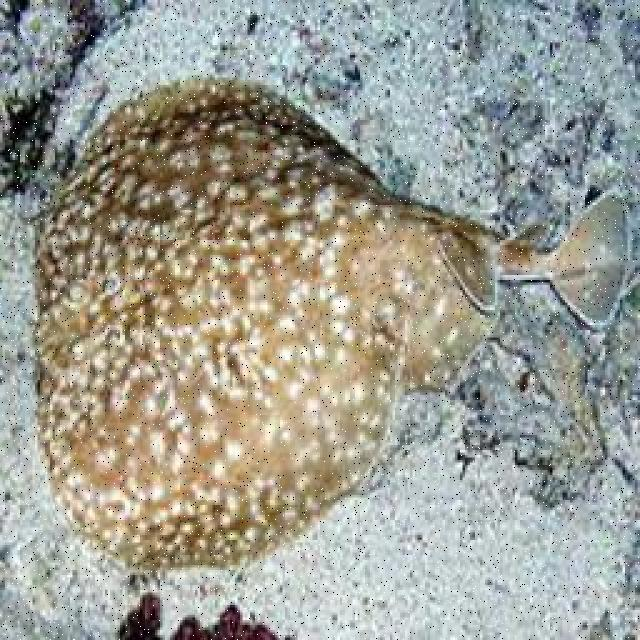fish: (31, 76, 630, 570)
